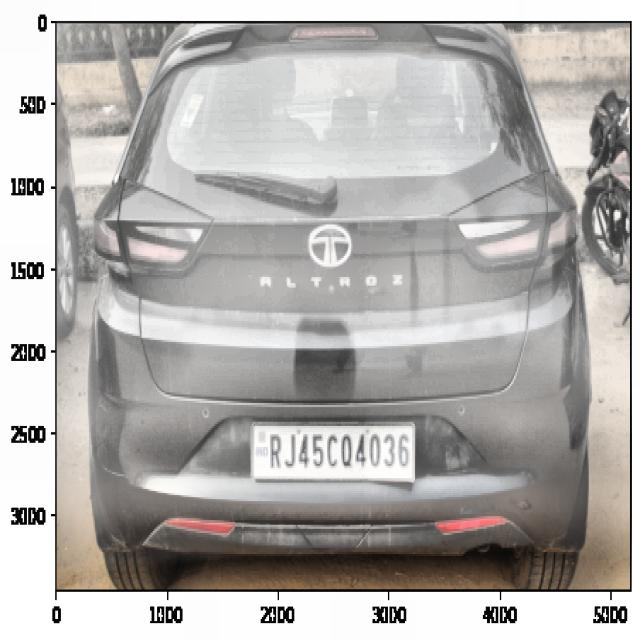license_plate: (262, 423, 415, 481)
